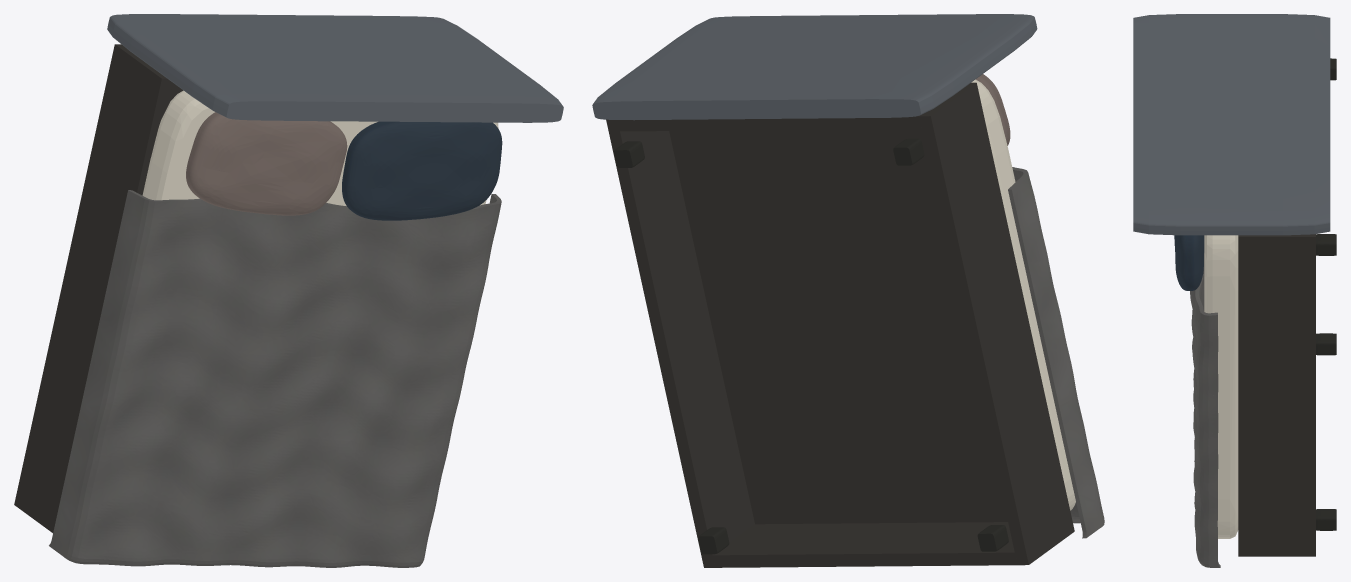
File: component_000_bed.glb
The picture shows the model from 3 angles, left to right: view 1: azimuth 30°, elevation 25°; view 2: azimuth 150°, elevation 25°; view 3: azimuth 270°, elevation 25°; orthographic projection. The views are drawn at different scales.
Visible parts, largest first — view 1: 000_bed_011_instance_011_photo_-01, 000_bed_000_instance_000_photo_-01, 000_bed_002_instance_002_photo_-01, 000_bed_013_instance_013_photo_-01, 000_bed_012_instance_012_photo_-01, 000_bed_010_instance_010_photo_-01; view 2: 000_bed_005_instance_005_photo_-01, 000_bed_000_instance_000_photo_-01, 000_bed_002_instance_002_photo_-01, 000_bed_001_instance_001_photo_-01, 000_bed_004_instance_004_photo_-01, 000_bed_011_instance_011_photo_-01, 000_bed_010_instance_010_photo_-01, 000_bed_003_instance_003_photo_-01, 000_bed_008_instance_008_photo_-01, 000_bed_007_instance_007_photo_-01, 000_bed_009_instance_009_photo_-01, 000_bed_006_instance_006_photo_-01; view 3: 000_bed_000_instance_000_photo_-01, 000_bed_001_instance_001_photo_-01, 000_bed_010_instance_010_photo_-01, 000_bed_011_instance_011_photo_-01, 000_bed_013_instance_013_photo_-01, 000_bed_009_instance_009_photo_-01, 000_bed_006_instance_006_photo_-01, 000_bed_007_instance_007_photo_-01.
Part boxes in pixels (x1=…): 000_bed_011_instance_011_photo_-01: x1=49, y1=190, x2=501, y2=567; 000_bed_000_instance_000_photo_-01: x1=107, y1=14, x2=563, y2=122; 000_bed_002_instance_002_photo_-01: x1=14, y1=44, x2=172, y2=532; 000_bed_013_instance_013_photo_-01: x1=342, y1=121, x2=502, y2=220; 000_bed_012_instance_012_photo_-01: x1=186, y1=112, x2=347, y2=215; 000_bed_010_instance_010_photo_-01: x1=142, y1=90, x2=498, y2=205; 000_bed_005_instance_005_photo_-01: x1=669, y1=129, x2=1007, y2=524; 000_bed_000_instance_000_photo_-01: x1=592, y1=14, x2=1037, y2=120; 000_bed_002_instance_002_photo_-01: x1=919, y1=82, x2=1074, y2=565; 000_bed_001_instance_001_photo_-01: x1=606, y1=119, x2=754, y2=567; 000_bed_004_instance_004_photo_-01: x1=712, y1=522, x2=1017, y2=567; 000_bed_011_instance_011_photo_-01: x1=1008, y1=167, x2=1104, y2=538; 000_bed_010_instance_010_photo_-01: x1=971, y1=79, x2=1075, y2=510; 000_bed_003_instance_003_photo_-01: x1=617, y1=115, x2=921, y2=131; 000_bed_008_instance_008_photo_-01: x1=893, y1=138, x2=924, y2=165; 000_bed_007_instance_007_photo_-01: x1=698, y1=527, x2=729, y2=554; 000_bed_009_instance_009_photo_-01: x1=977, y1=525, x2=1008, y2=551; 000_bed_006_instance_006_photo_-01: x1=614, y1=141, x2=644, y2=167; 000_bed_000_instance_000_photo_-01: x1=1133, y1=14, x2=1330, y2=235; 000_bed_001_instance_001_photo_-01: x1=1238, y1=234, x2=1315, y2=556; 000_bed_010_instance_010_photo_-01: x1=1204, y1=235, x2=1238, y2=538; 000_bed_011_instance_011_photo_-01: x1=1190, y1=253, x2=1220, y2=567; 000_bed_013_instance_013_photo_-01: x1=1174, y1=235, x2=1204, y2=290; 000_bed_009_instance_009_photo_-01: x1=1316, y1=333, x2=1336, y2=355; 000_bed_006_instance_006_photo_-01: x1=1316, y1=234, x2=1336, y2=255; 000_bed_007_instance_007_photo_-01: x1=1316, y1=509, x2=1336, y2=530.
Bounding box in the file's own units: 0.7602 × 0.8771 × 0.3541.
